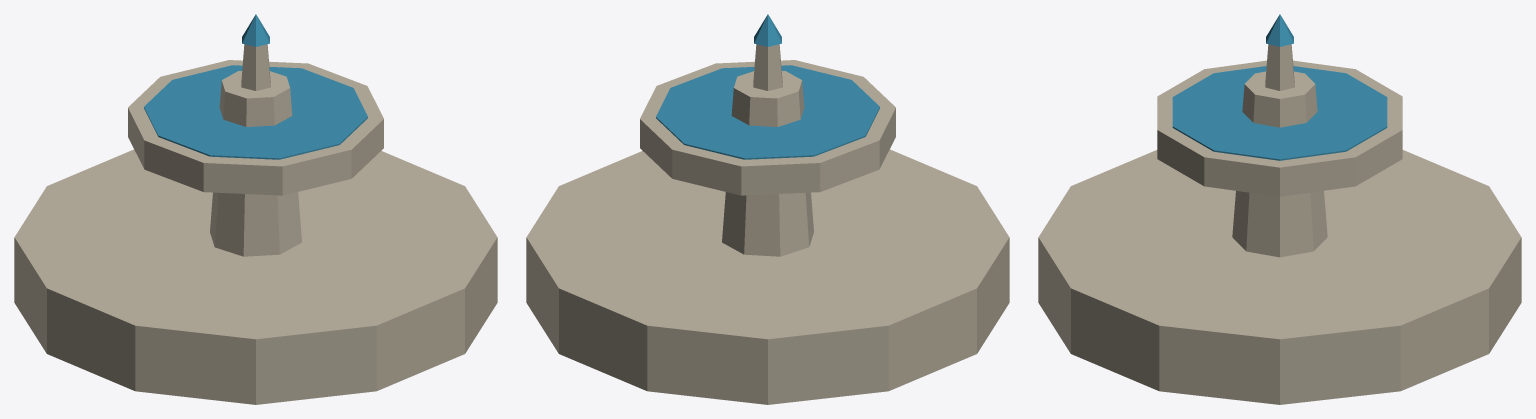
File: fountain.fbx
3 renders of one model, left to right at view 1: azimuth 30°, elevation 25°; view 2: azimuth 150°, elevation 25°; view 3: azimuth 270°, elevation 25°, orthographic.
Visible parts, largest first — view 1: fountain; view 2: fountain; view 3: fountain.
Boxes of the visible parts, x1=… form: fountain: x1=14, y1=14, x2=497, y2=404; fountain: x1=526, y1=14, x2=1009, y2=404; fountain: x1=1038, y1=14, x2=1521, y2=404.
Bounding box in the file's own units: 3 × 1.98 × 3.
